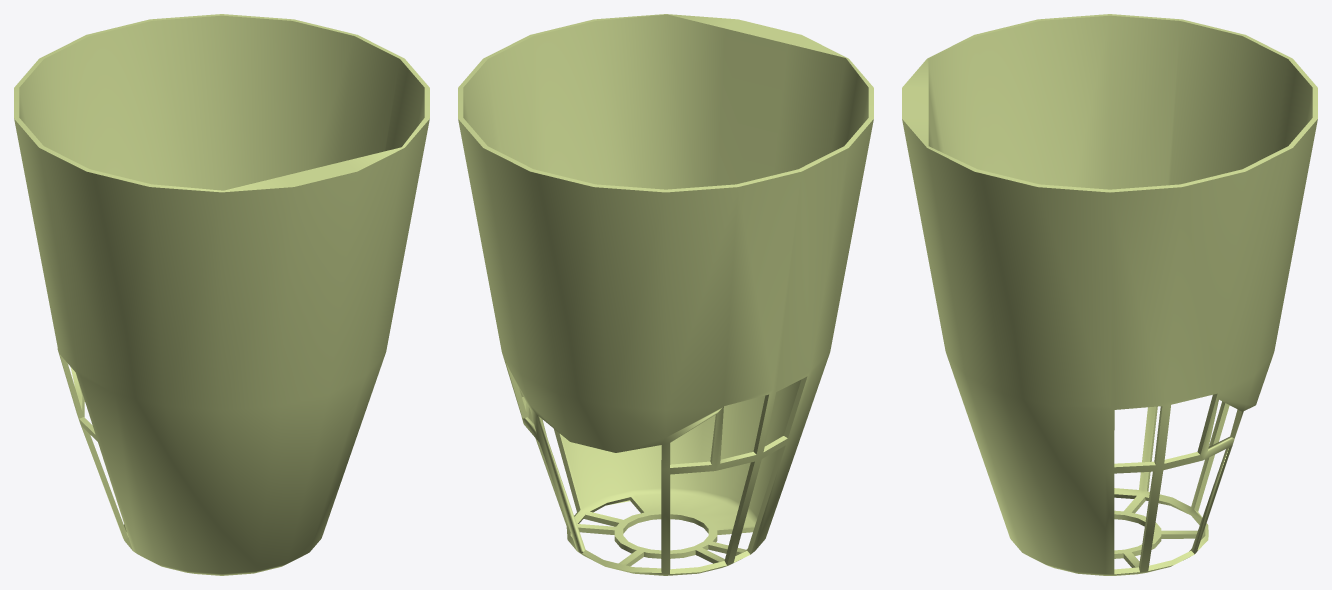
File: Kabina3.obj
3 views of the same model, side by side, from view 1: azimuth 30°, elevation 25°; view 2: azimuth 150°, elevation 25°; view 3: azimuth 270°, elevation 25° (orthographic).
Visible parts, largest first — view 1: Cylinder002; view 2: Cylinder002; view 3: Cylinder002.
Part boxes in pixels (x1,y1,x2,y2): Cylinder002: (14, 14, 429, 575); Cylinder002: (458, 14, 873, 575); Cylinder002: (902, 14, 1317, 575).
Bounding box in the file's own units: 19.61 × 22.26 × 19.31.
